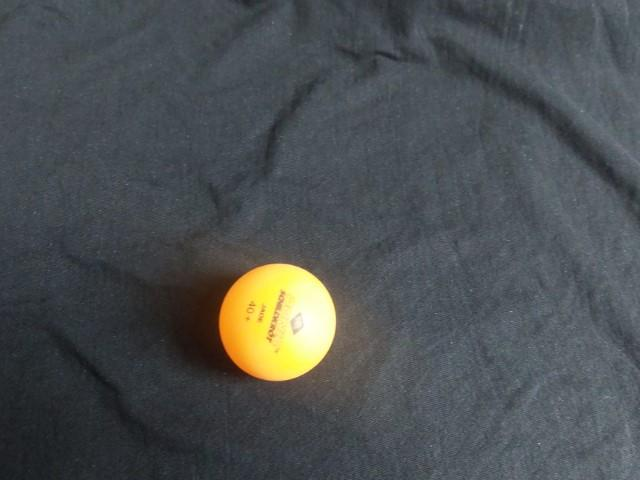oball: (212, 259, 340, 386)
